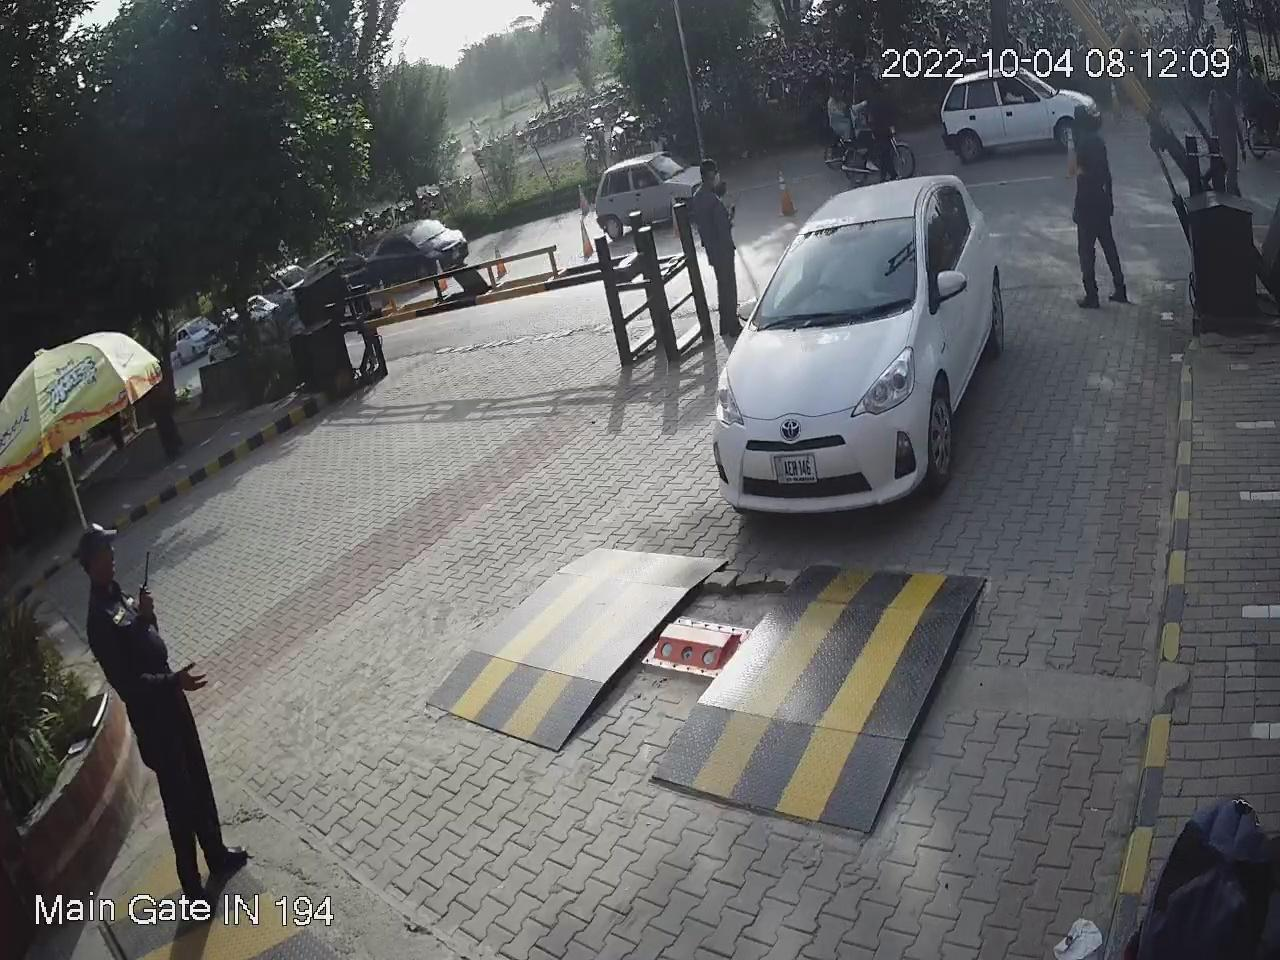windshield: (756, 210, 923, 328)
